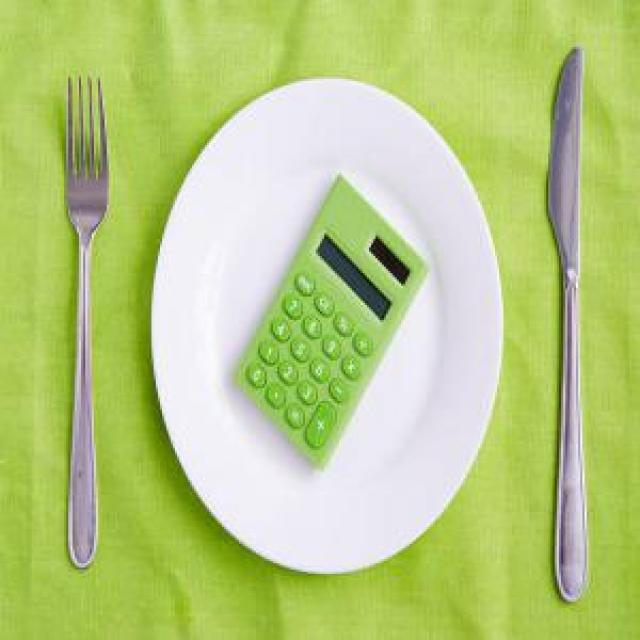knife: (546, 49, 589, 603)
